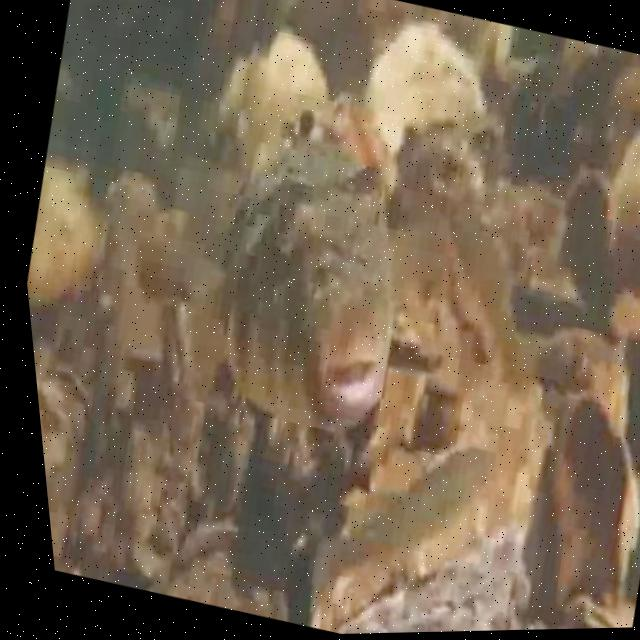Oyster-Indeterminate: (480, 326, 633, 537), (333, 544, 538, 634), (372, 24, 486, 148), (142, 523, 286, 619), (243, 31, 328, 150), (27, 155, 97, 293), (397, 135, 481, 219), (36, 363, 94, 477), (605, 130, 640, 271), (210, 61, 251, 143), (561, 595, 616, 629)
Oyster-Open: (437, 266, 500, 379), (287, 108, 322, 147)
